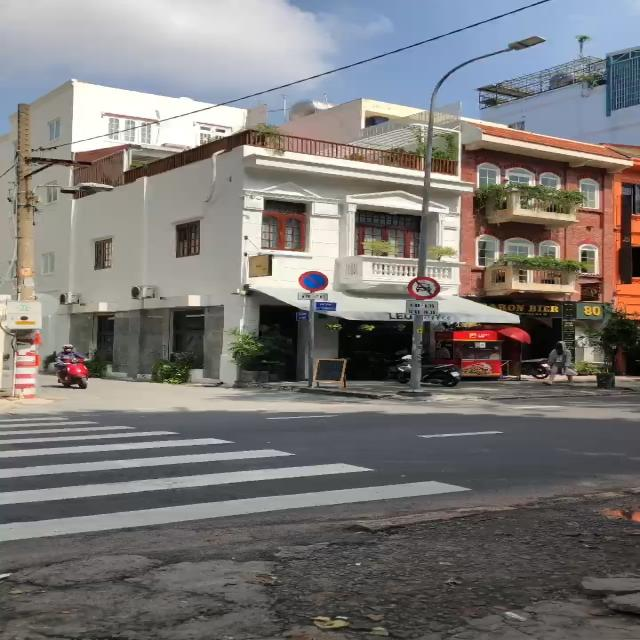Bien bao cam do xe: (297, 268, 330, 293)
Bien bao cam xe oto: (404, 274, 443, 300)
